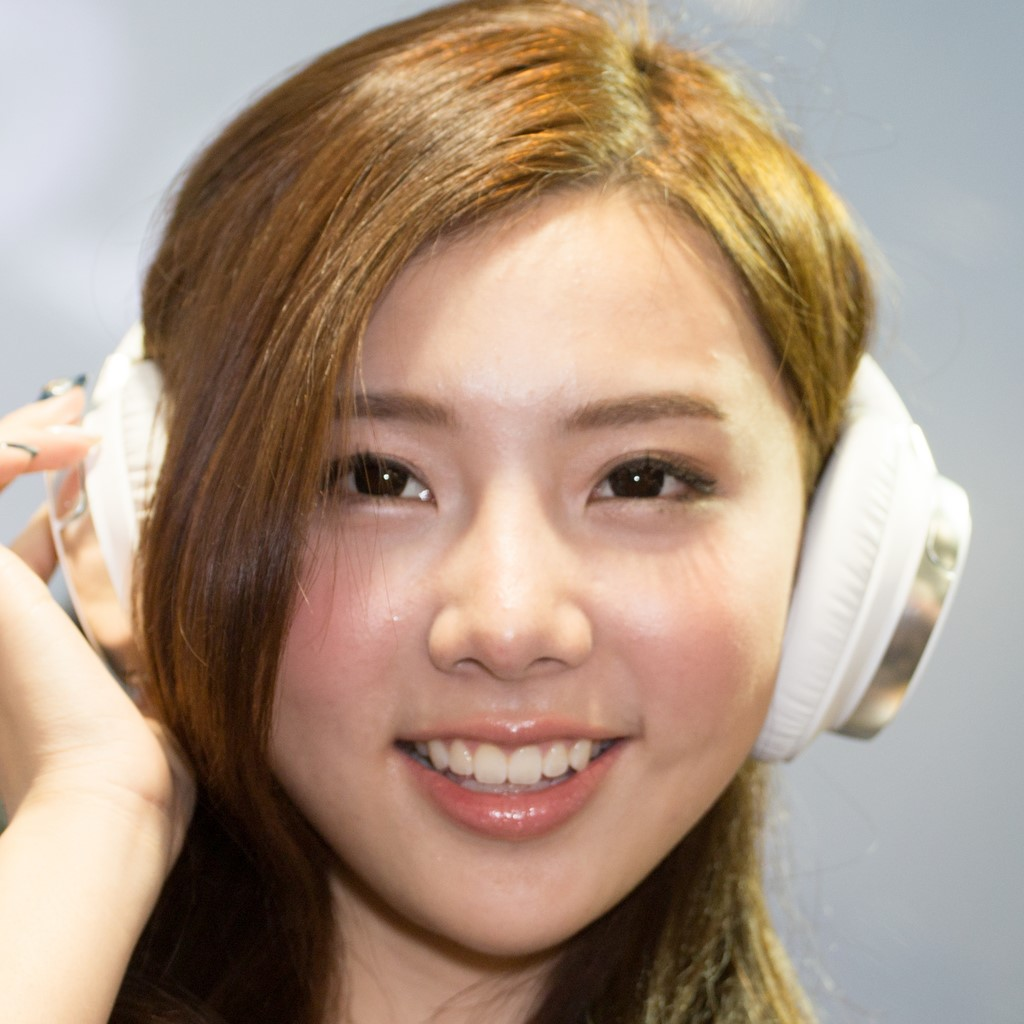sin_mascara: (246, 190, 776, 954)
